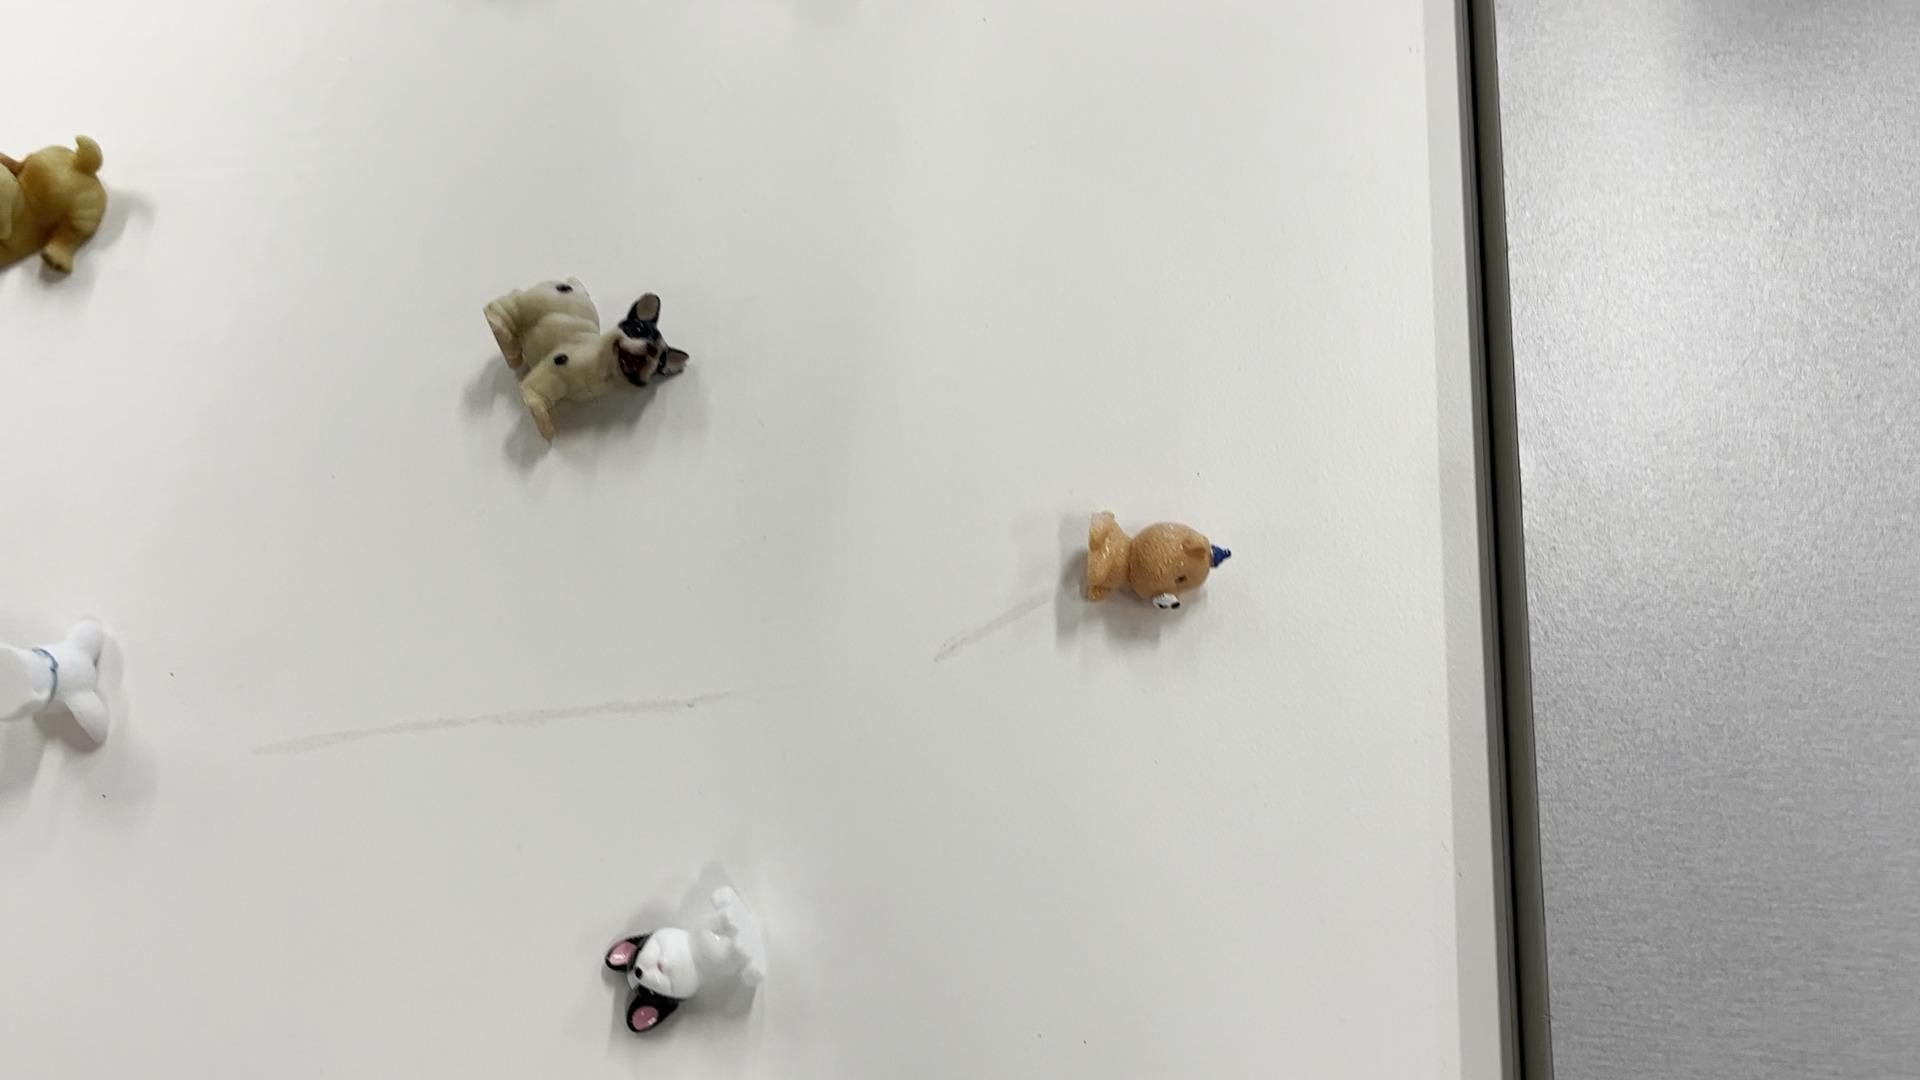pet: (479, 273, 695, 469), (583, 866, 774, 1046), (0, 124, 128, 295), (1058, 496, 1218, 617), (41, 613, 138, 758)
